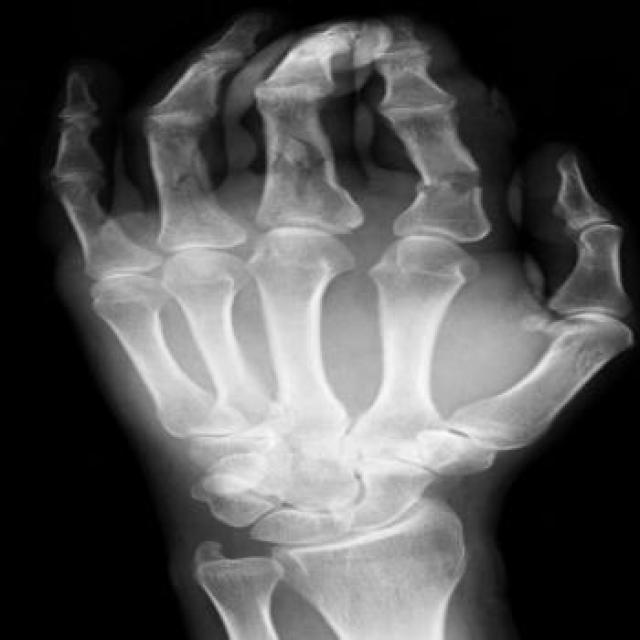Fracture: (407, 154, 505, 214), (260, 131, 349, 184), (156, 151, 228, 206)
